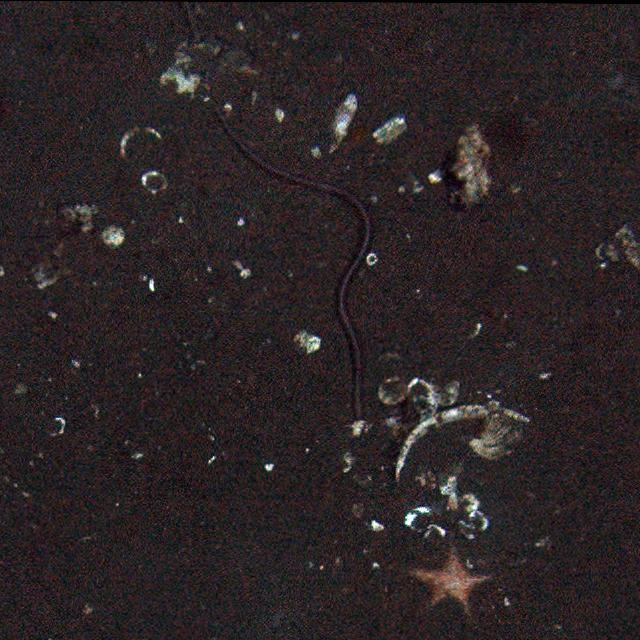eel: (204, 98, 373, 420)
